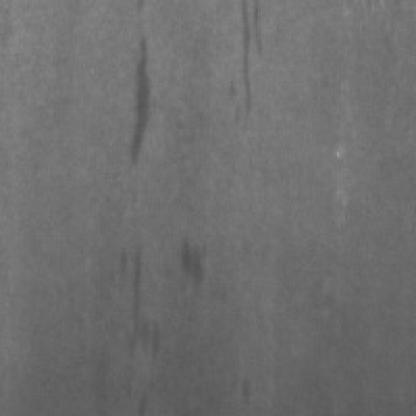inclusion: (108, 237, 160, 366), (119, 27, 162, 173), (227, 0, 270, 129), (173, 229, 210, 293)
